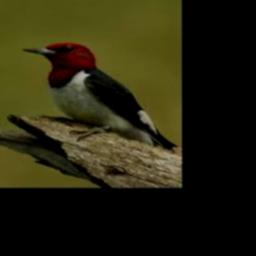Woodpecker: (22, 42, 178, 150)
